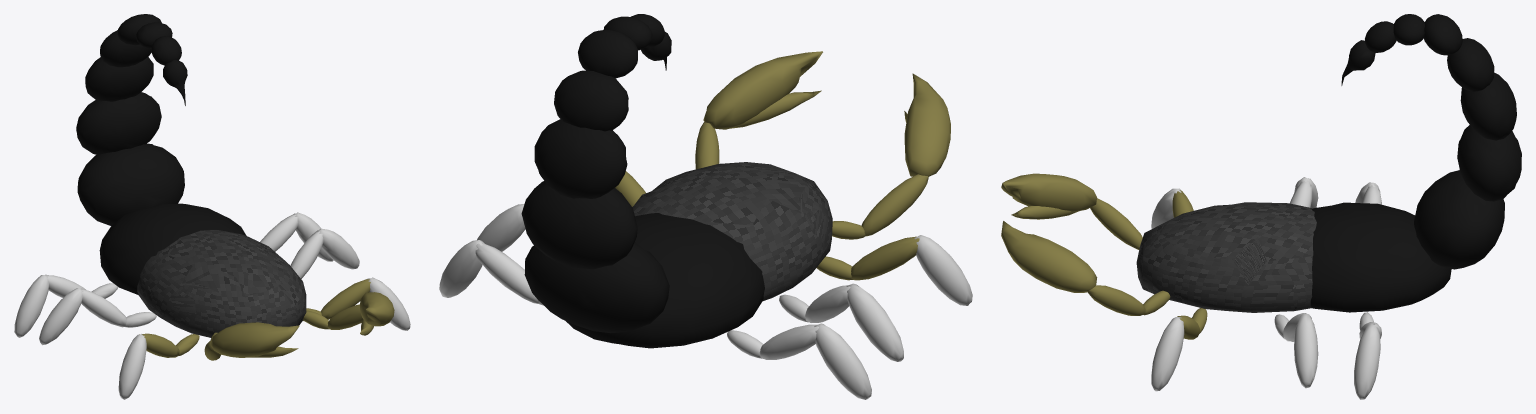
File: scorpion_000012.obj
The picture shows the model from 3 angles, left to right: view 1: azimuth 30°, elevation 25°; view 2: azimuth 150°, elevation 25°; view 3: azimuth 270°, elevation 25°; orthographic projection. The views are drawn at different scales.
Parts seen in each view (by area): view 1: Sphere.010_Sphere.012, Sphere.002_Sphere.004, Sphere.011_Sphere.013, Sphere.003_Sphere.005, Sphere.030_Sphere.000, Sphere.004_Sphere.006, Sphere.012_Sphere.020, Sphere.000_Sphere.019, Sphere.014_Sphere.023, Sphere.016_Sphere.022, Sphere.013_Sphere.017, Sphere.018_Sphere.025 (+9 smaller); view 2: Sphere.010_Sphere.012, Sphere.011_Sphere.013, Sphere.002_Sphere.004, Sphere.030_Sphere.000, Sphere.003_Sphere.005, Sphere.004_Sphere.006, Sphere.014_Sphere.023, Sphere.005_Sphere.007, Sphere.012_Sphere.020, Sphere.018_Sphere.025, Sphere.028_Sphere.046, Sphere.006_Sphere.008 (+11 smaller); view 3: Sphere.010_Sphere.012, Sphere.011_Sphere.013, Sphere.002_Sphere.004, Sphere.030_Sphere.000, Sphere.003_Sphere.005, Sphere.004_Sphere.006, Sphere.028_Sphere.046, Sphere.000_Sphere.019, Sphere.005_Sphere.007, Sphere.012_Sphere.020, Sphere.014_Sphere.023, Sphere.006_Sphere.008 (+6 smaller).
Boxes of the visible parts, x1,y1,x2,y2 form: Sphere.010_Sphere.012: (137,230,306,337); Sphere.002_Sphere.004: (77,143,184,225); Sphere.011_Sphere.013: (99,203,246,294); Sphere.003_Sphere.005: (76,92,161,154); Sphere.030_Sphere.000: (210,292,394,357); Sphere.004_Sphere.006: (85,57,153,101); Sphere.012_Sphere.020: (39,228,359,345); Sphere.000_Sphere.019: (118,277,410,399); Sphere.014_Sphere.023: (14,212,333,337); Sphere.016_Sphere.022: (81,230,323,327); Sphere.013_Sphere.017: (139,279,370,357); Sphere.018_Sphere.025: (46,213,298,297); Sphere.010_Sphere.012: (632,162,832,300); Sphere.011_Sphere.013: (566,213,764,348); Sphere.002_Sphere.004: (524,242,669,333); Sphere.030_Sphere.000: (703,51,950,176); Sphere.003_Sphere.005: (521,181,637,269); Sphere.004_Sphere.006: (534,119,627,198); Sphere.014_Sphere.023: (439,240,871,399); Sphere.005_Sphere.007: (554,70,628,131); Sphere.012_Sphere.020: (477,204,903,361); Sphere.018_Sphere.025: (475,243,818,359); Sphere.028_Sphere.046: (695,122,928,236); Sphere.006_Sphere.008: (578,29,637,78); Sphere.010_Sphere.012: (1136,202,1316,312); Sphere.011_Sphere.013: (1310,202,1451,312); Sphere.002_Sphere.004: (1414,170,1504,269); Sphere.030_Sphere.000: (1001,173,1097,292); Sphere.003_Sphere.005: (1457,125,1521,201); Sphere.004_Sphere.006: (1460,72,1516,140); Sphere.028_Sphere.046: (1087,198,1145,315); Sphere.000_Sphere.019: (1151,188,1184,391); Sphere.005_Sphere.007: (1447,38,1494,91); Sphere.012_Sphere.020: (1294,177,1318,388); Sphere.014_Sphere.023: (1354,182,1380,399); Sphere.006_Sphere.008: (1424,14,1462,55).
Bounding box in the file's own units: 0.9577 × 0.7436 × 1.19.
